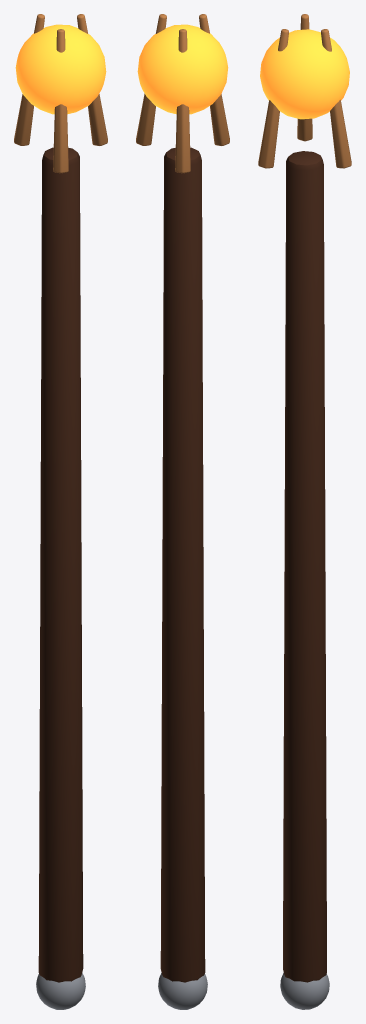
The model's file is emberstaff.glb.
3 views of the same model, side by side, from view 1: azimuth 30°, elevation 25°; view 2: azimuth 150°, elevation 25°; view 3: azimuth 330°, elevation 25° (orthographic).
Visible parts, largest first — view 1: wpn_emberstaff; view 2: wpn_emberstaff; view 3: wpn_emberstaff.
Boxes of the visible parts, bbox=[...] form: wpn_emberstaff: bbox=[14, 14, 107, 1009]; wpn_emberstaff: bbox=[136, 14, 229, 1009]; wpn_emberstaff: bbox=[258, 14, 351, 1009].
Size of the model in its own units: 0.2182 by 2.4 by 0.2065.
